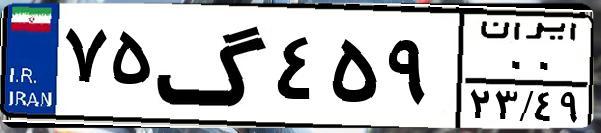0: (537, 27, 568, 80), (508, 27, 537, 80)
2: (470, 70, 495, 125)
3: (495, 70, 520, 125)
4: (270, 28, 330, 110), (535, 70, 560, 125)
5: (330, 28, 385, 110), (110, 28, 156, 98)
7: (57, 26, 110, 100)
9: (385, 28, 445, 110), (560, 70, 590, 125)
گ: (156, 12, 270, 120)
